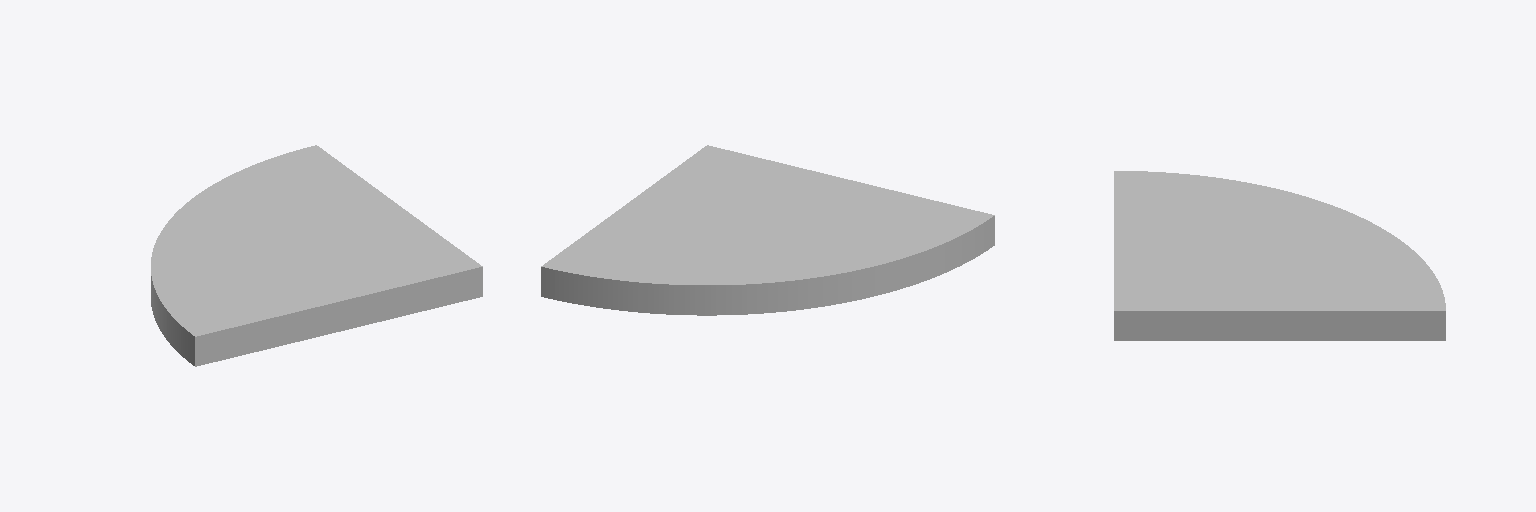
File: quartar_1.obj
3 renders of one model, left to right at view 1: azimuth 30°, elevation 25°; view 2: azimuth 150°, elevation 25°; view 3: azimuth 270°, elevation 25°, orthographic.
Visible parts, largest first — view 1: Circle_Circle.001; view 2: Circle_Circle.001; view 3: Circle_Circle.001.
Boxes of the visible parts, x1,y1,x2,y2 form: Circle_Circle.001: [151, 145, 482, 366]; Circle_Circle.001: [541, 145, 994, 315]; Circle_Circle.001: [1114, 171, 1445, 340].
Bounding box in the file's own units: 10 × 1 × 10.